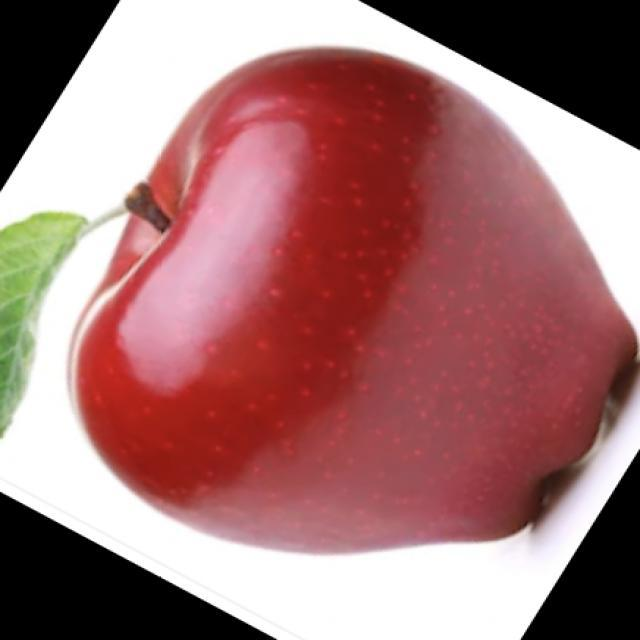Fresh Apple: (95, 67, 640, 585)
